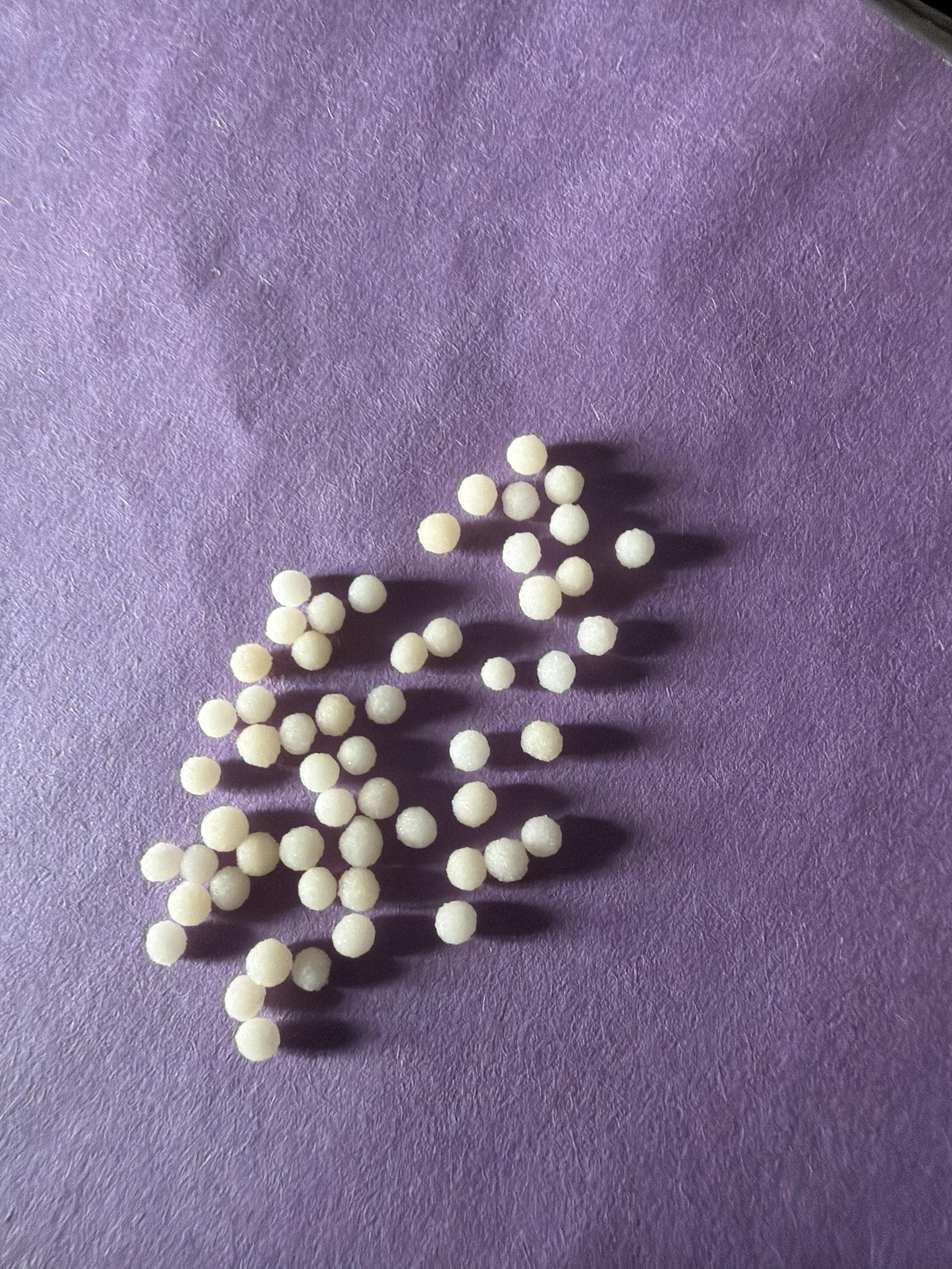pill: (200, 805, 249, 852), (246, 938, 292, 988), (339, 816, 383, 868), (279, 826, 324, 871), (235, 1017, 280, 1062), (452, 782, 496, 827), (518, 575, 562, 620), (236, 724, 281, 768), (167, 881, 211, 926), (484, 838, 528, 882), (167, 882, 211, 926), (332, 913, 375, 958), (224, 975, 265, 1022), (236, 832, 279, 876), (145, 920, 186, 966), (338, 867, 380, 911), (435, 900, 476, 945), (209, 866, 250, 911), (520, 815, 562, 858), (446, 847, 487, 891), (291, 947, 331, 992), (521, 720, 563, 762), (395, 807, 437, 849), (417, 513, 460, 554), (449, 729, 490, 772), (358, 777, 399, 820), (315, 693, 355, 736), (140, 842, 183, 882), (298, 867, 337, 911), (506, 434, 547, 475), (291, 630, 332, 671), (549, 503, 589, 545), (457, 474, 497, 516), (537, 651, 576, 694), (365, 685, 406, 725), (230, 644, 272, 683), (314, 788, 356, 827), (265, 607, 307, 646), (179, 756, 221, 795), (502, 532, 541, 574), (307, 592, 345, 635), (197, 698, 237, 738), (299, 753, 339, 793), (544, 465, 584, 505), (615, 528, 655, 568), (390, 632, 428, 674), (422, 618, 462, 657), (337, 736, 377, 775), (180, 843, 218, 884), (577, 617, 618, 655), (279, 713, 316, 755), (348, 574, 387, 613), (236, 685, 275, 724), (555, 556, 593, 596), (270, 570, 311, 607), (502, 482, 540, 521), (481, 656, 515, 691)
